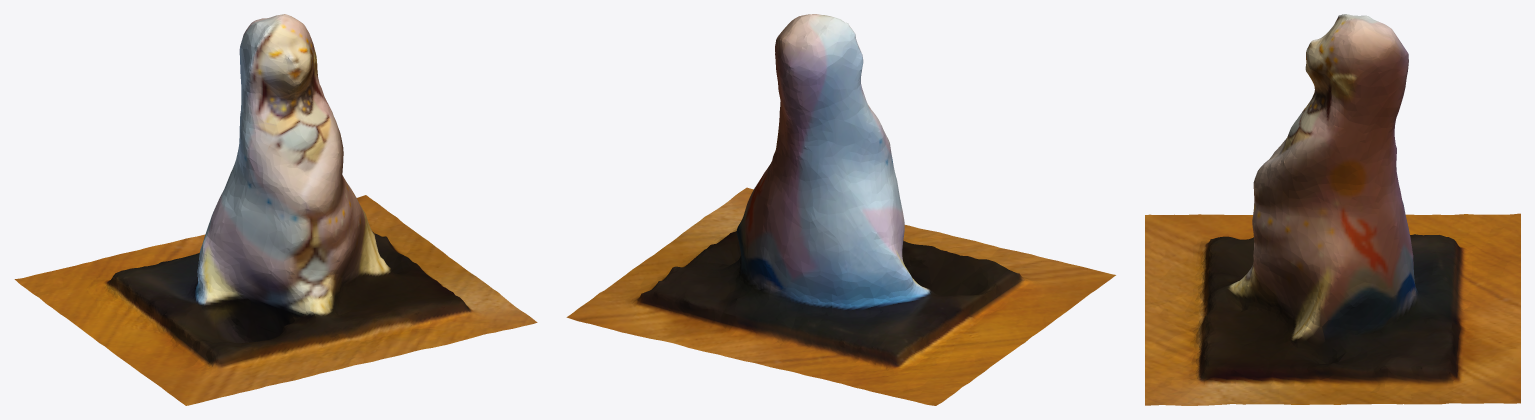
File: Test_Doll.fbx
3 renders of one model, left to right at view 1: azimuth 30°, elevation 25°; view 2: azimuth 150°, elevation 25°; view 3: azimuth 270°, elevation 25°, orthographic. The views are drawn at different scales.
Visible parts, largest first — view 1: mesh; view 2: mesh; view 3: mesh.
Part boxes in pixels (x1,y1,x2,y2): mesh: (14,14,537,405); mesh: (566,14,1115,405); mesh: (1145,14,1520,405).
Bounding box in the file's own units: 0.2106 × 0.17 × 0.178.
1 material, 1 textured.
